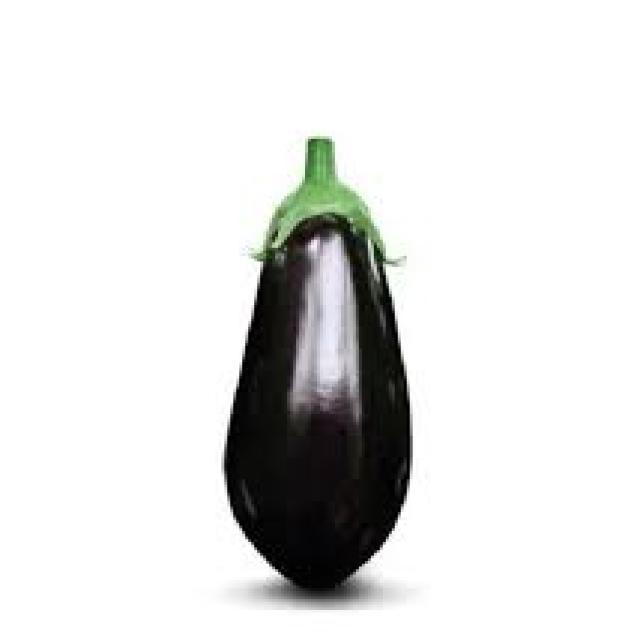eggplant: (222, 132, 410, 590)
